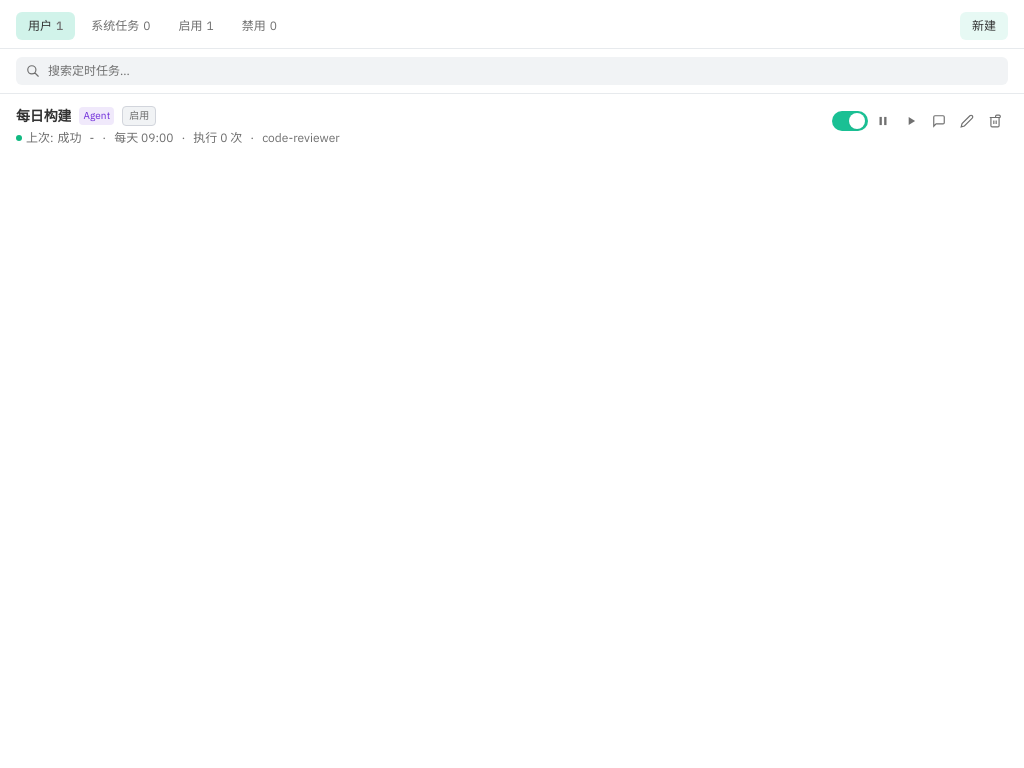
Test: 启用 / 禁用 —— 失败有声，开关回到真实状态 › 禁用失败：开关停在原位（不做乐观翻转）+ 可读原因经 alert 播报
Click the switch named "禁用": (850, 121) 832,111 -> 868,131
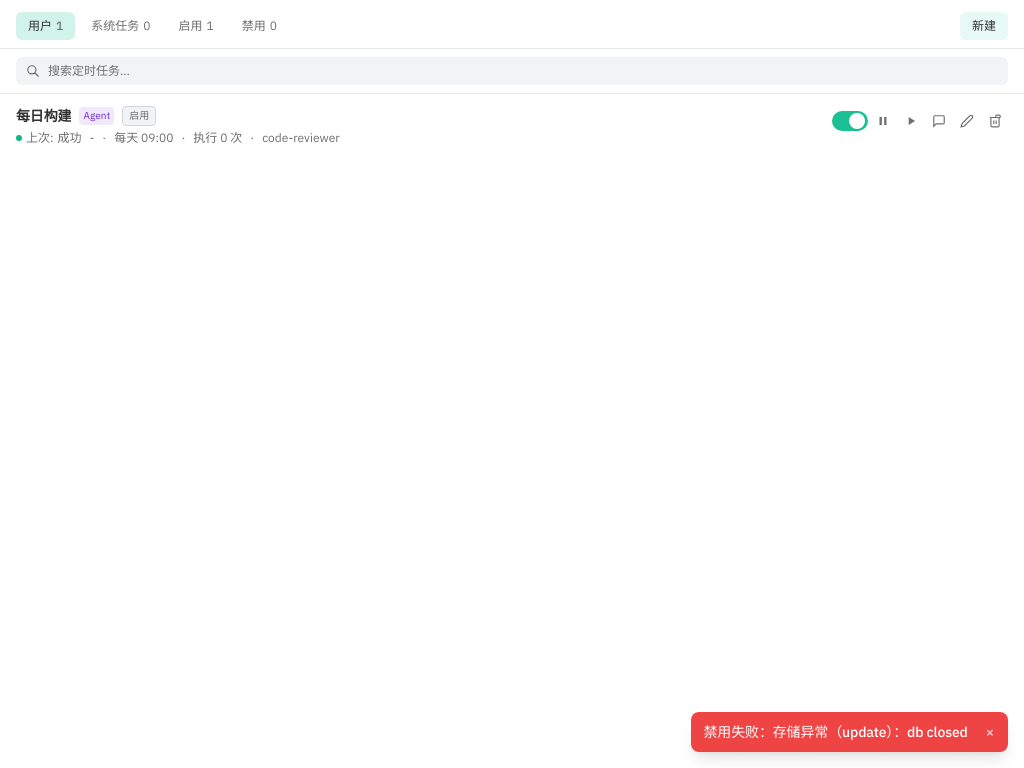
Expected: the message shows "禁用失败", 703,723 -> 968,741
Expected: the message shows "存储异常（update）：db closed", 703,723 -> 968,741
